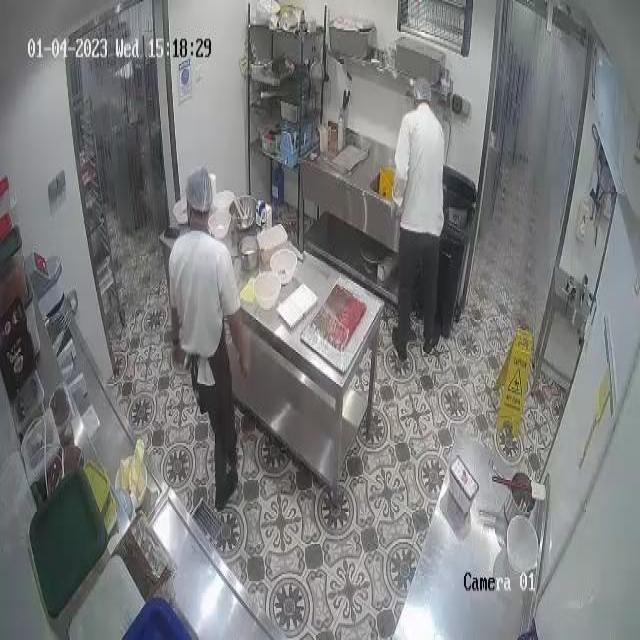hairnet: (184, 166, 214, 208), (412, 76, 430, 105)
